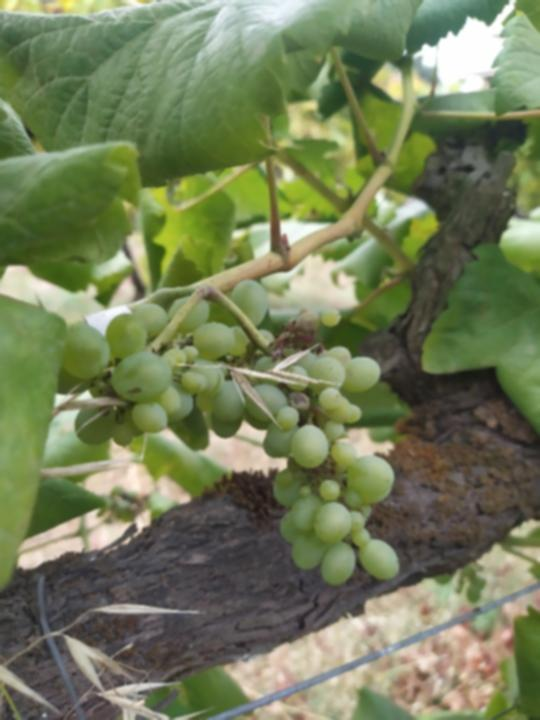grape: (72, 278, 411, 590)
